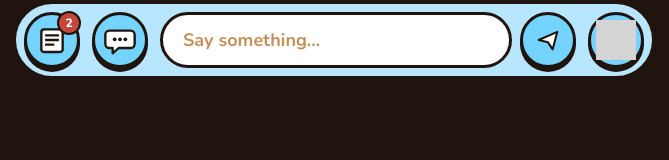
Scenario: ChatBar › flags unread lines and shows them in the history
Expected: the text "2" is shown, [57,11,81,35]
Click the button named "chat history" at coordinates (52, 40), box [24,12,80,68]
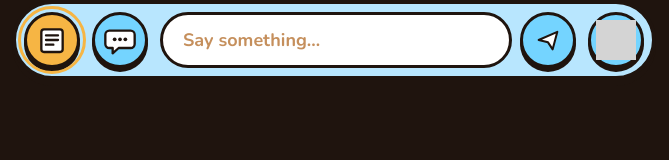
Expected: the text "2" is gone
